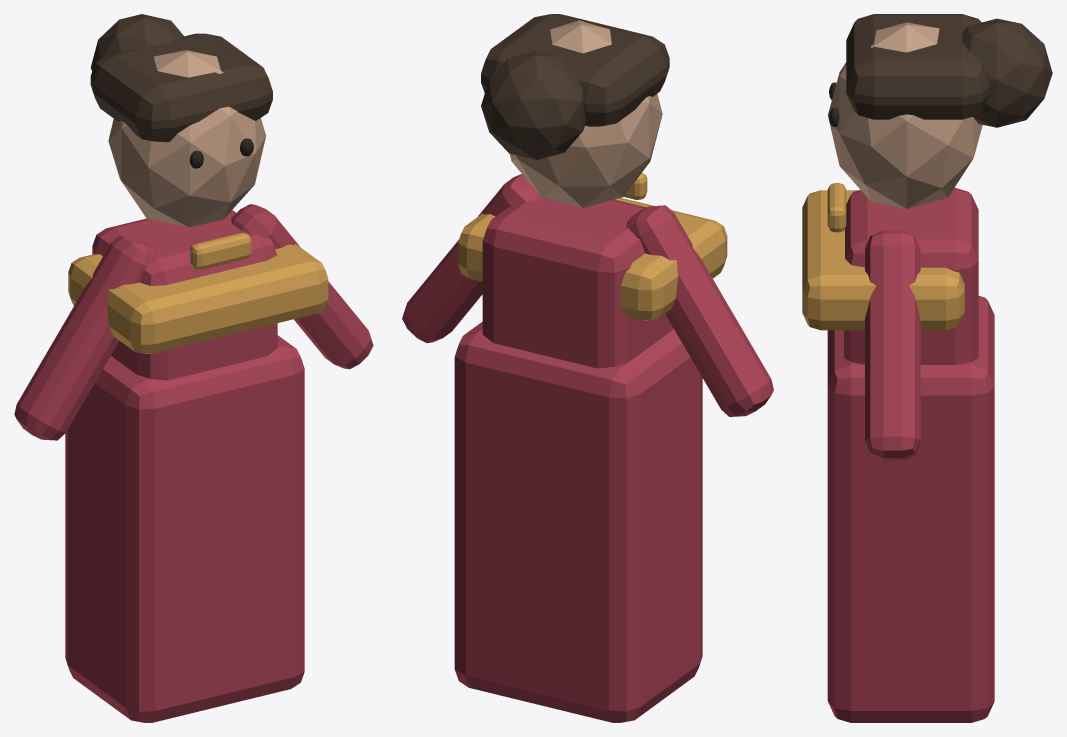
File: lady_gossip_3994.glb
The picture shows the model from 3 angles, left to right: view 1: azimuth 30°, elevation 25°; view 2: azimuth 150°, elevation 25°; view 3: azimuth 270°, elevation 25°; orthographic projection. The views are drawn at different scales.
Visible parts, largest first — view 1: Long skirt, Shawl, Head, Hair cap, Animated gesturing arm, Bodice, Animated gesturing arm.001, Hair bun, Gossip ribbon; view 2: Long skirt, Bodice, Animated gesturing arm, Head, Hair cap, Hair bun, Shawl, Animated gesturing arm.001; view 3: Long skirt, Head, Animated gesturing arm.001, Hair cap, Bodice, Shawl, Hair bun, Gossip ribbon.
Part boxes in pixels (x1,y1,x2,y2): Long skirt: [65, 335, 304, 722]; Shawl: [68, 244, 328, 353]; Head: [108, 50, 266, 227]; Hair cap: [90, 33, 272, 142]; Animated gesturing arm: [14, 236, 156, 440]; Bodice: [92, 210, 277, 380]; Animated gesturing arm.001: [231, 204, 373, 369]; Hair bun: [90, 14, 183, 71]; Gossip ribbon: [190, 233, 251, 269]; Long skirt: [454, 321, 702, 722]; Bodice: [482, 197, 672, 368]; Animated gesturing arm: [626, 205, 773, 416]; Head: [509, 20, 662, 207]; Hair cap: [481, 14, 669, 126]; Hair bun: [481, 50, 585, 159]; Shawl: [458, 198, 727, 320]; Animated gesturing arm.001: [402, 174, 541, 342]; Long skirt: [827, 296, 994, 722]; Head: [828, 22, 982, 208]; Animated gesturing arm.001: [865, 230, 920, 460]; Hair cap: [846, 14, 989, 119]; Bodice: [844, 187, 978, 364]; Shawl: [802, 190, 964, 330]; Hair bun: [962, 18, 1052, 127]; Gossip ribbon: [827, 183, 846, 232].
Bounding box in the file's own units: 1.79 × 3.16 × 1.08.
